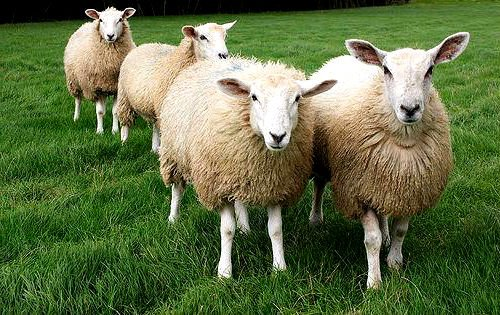sheep: (296, 32, 469, 291), (156, 55, 313, 278), (59, 10, 143, 139)
